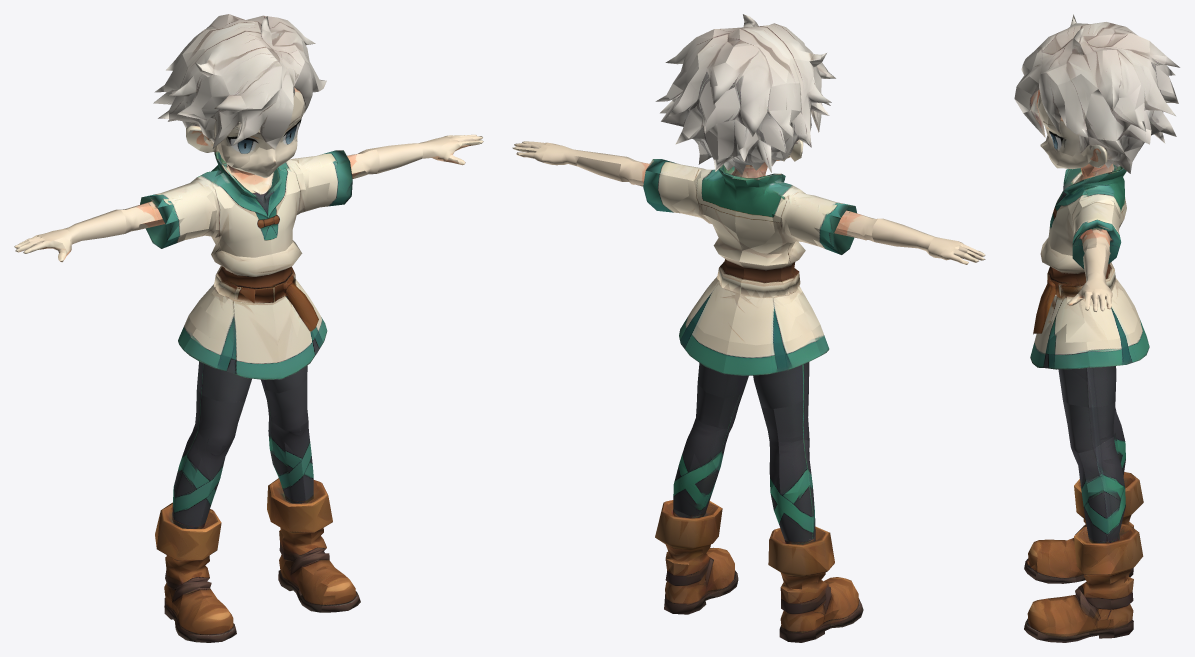
The model's file is travel_meshy.glb.
The picture shows the model from 3 angles, left to right: view 1: azimuth 30°, elevation 25°; view 2: azimuth 150°, elevation 25°; view 3: azimuth 270°, elevation 25°; orthographic projection. The views are drawn at different scales.
Size of the model in its own units: 1.67 by 2 by 0.5197.
Materials: 1 (1 with a texture image).
